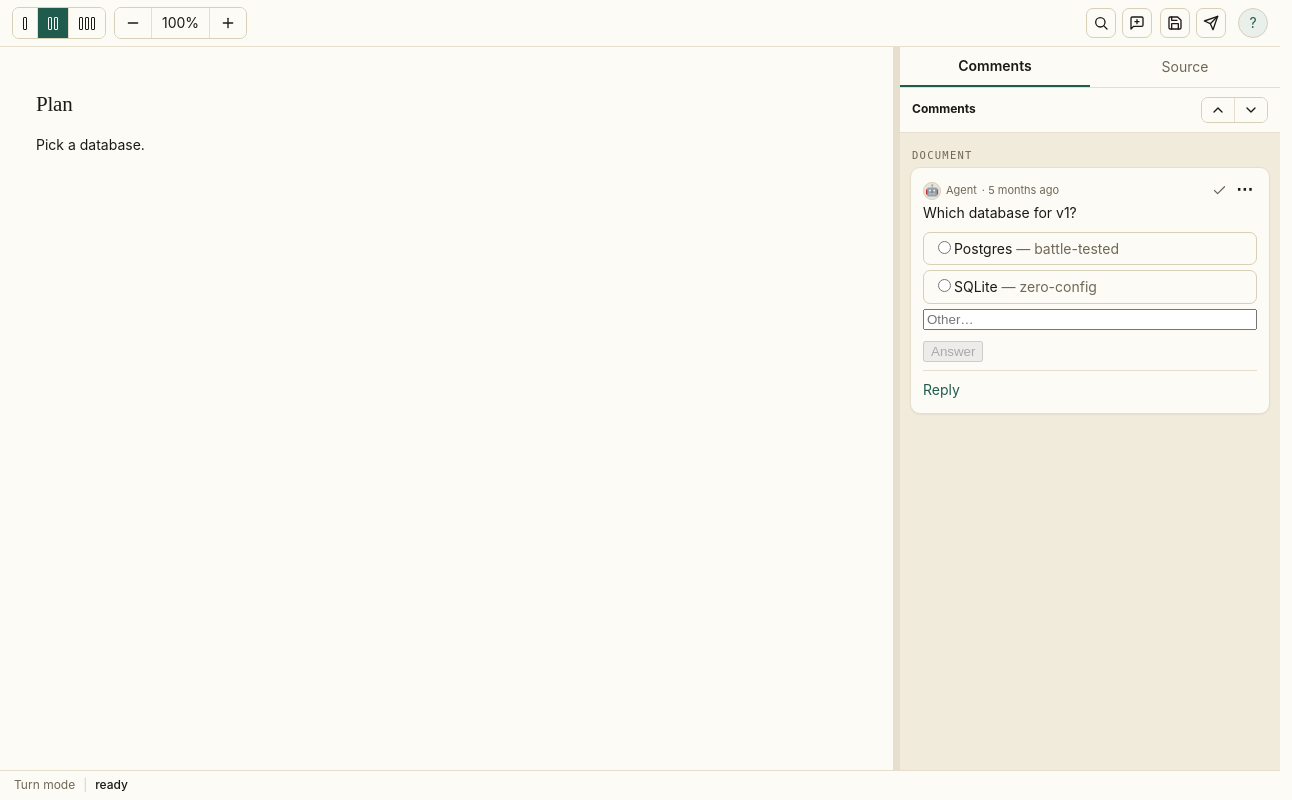
App choice answer flow (memory-backed) › multiple-choice: pick a radio and Answer posts a reply carrying the label
This screenshot has width=1292, height=800.
Expected: the button "Answer" is disabled, [923, 341, 984, 362]
What coordinates should you click on to do the following:
click the radio button labelled "SQLite — zero-config"
I would click on:
 (944, 286)
Its box is [938, 279, 951, 292].
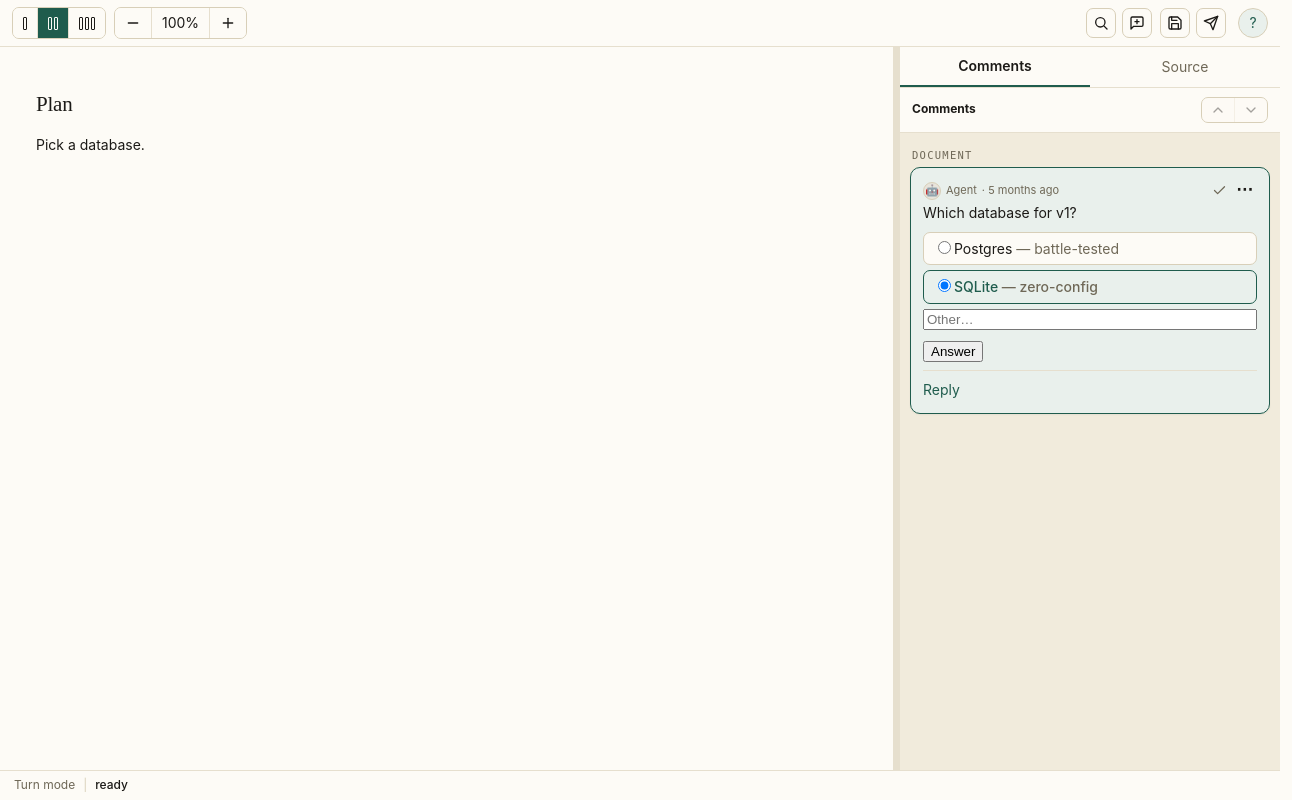
Expected: the button "Answer" is enabled
What coordinates should you click on to do the following:
click the button "Answer"
I would click on:
 (953, 352)
Its box is [923, 341, 984, 362].
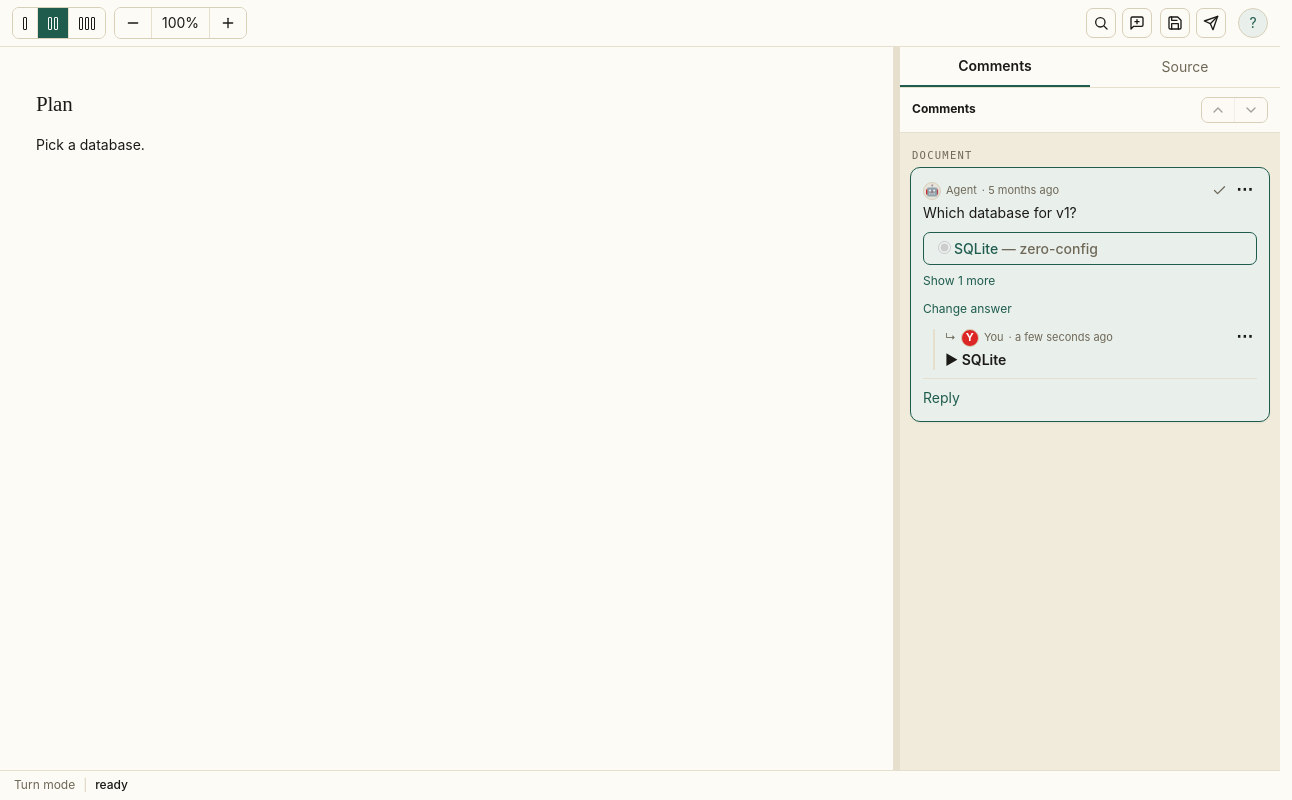
Expected: the text "▶ SQLite" is shown, [945, 350, 1006, 368]
